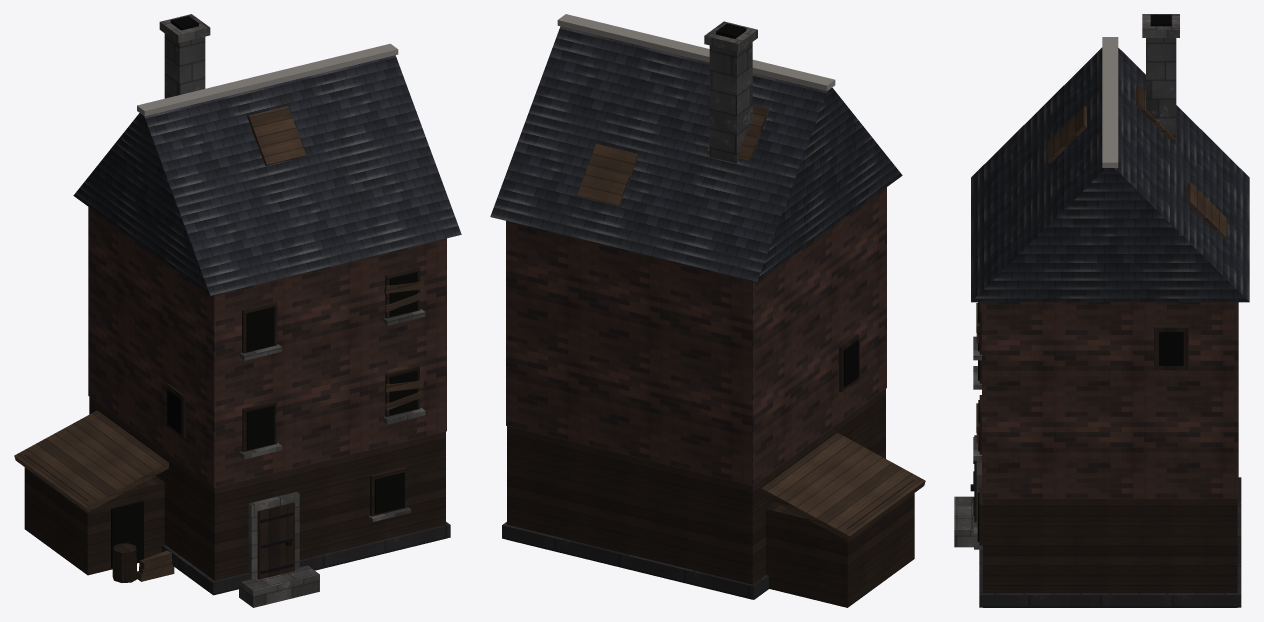
File: CasaS20.gltf
3 views of the same model, side by side, from view 1: azimuth 30°, elevation 25°; view 2: azimuth 150°, elevation 25°; view 3: azimuth 270°, elevation 25° (orthographic). The views are drawn at different scales.
Parts seen in each view (by area): view 1: CasaS20; view 2: CasaS20; view 3: CasaS20.
Part boxes in pixels (x1,y1,x2,y2): CasaS20: [14, 14, 461, 607]; CasaS20: [490, 14, 925, 607]; CasaS20: [954, 14, 1249, 607].
Size of the model in its own units: 9.33 by 13.79 by 7.21.
10 materials, 7 textured.
